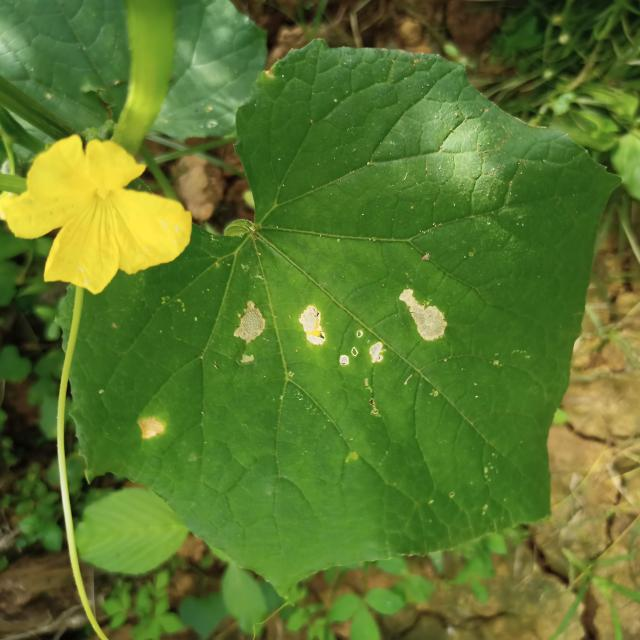disease_cucumber: (235, 286, 448, 370), (137, 414, 166, 442)
